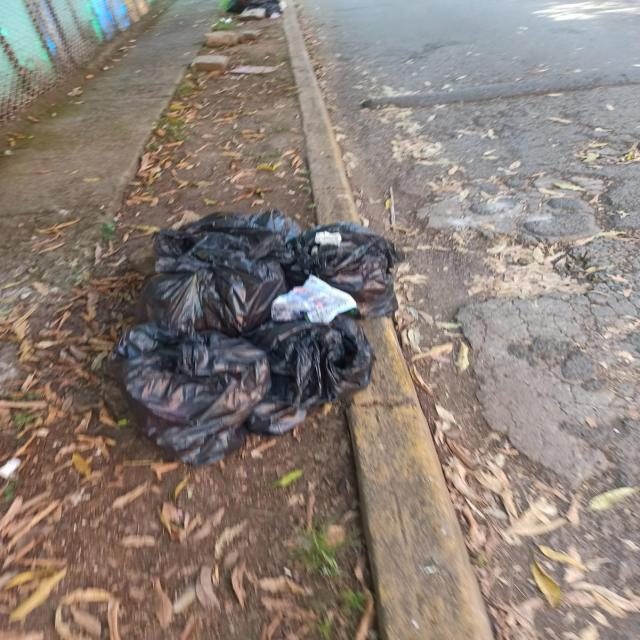high trash: (114, 210, 399, 464)
